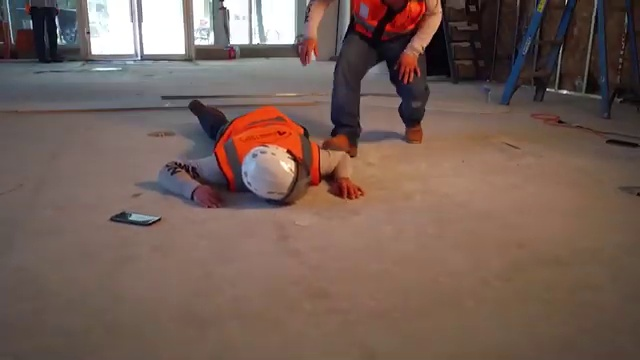helmet: (243, 143, 307, 202)
jacket: (209, 108, 318, 139)
